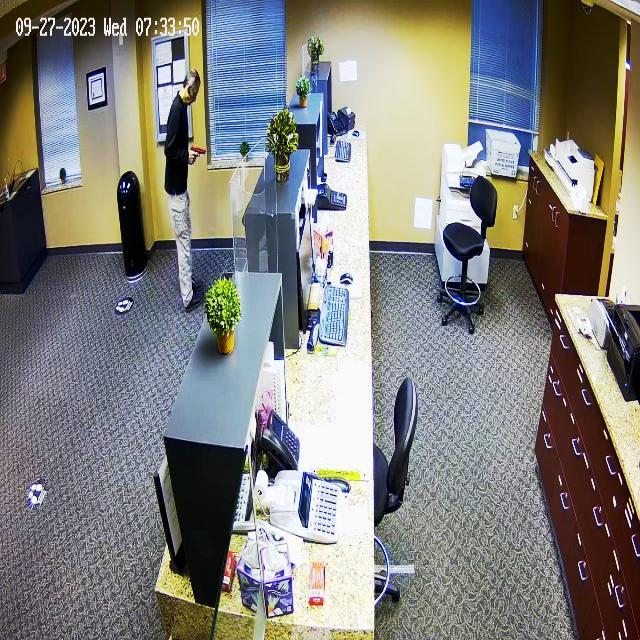Gun: (184, 135, 220, 172)
